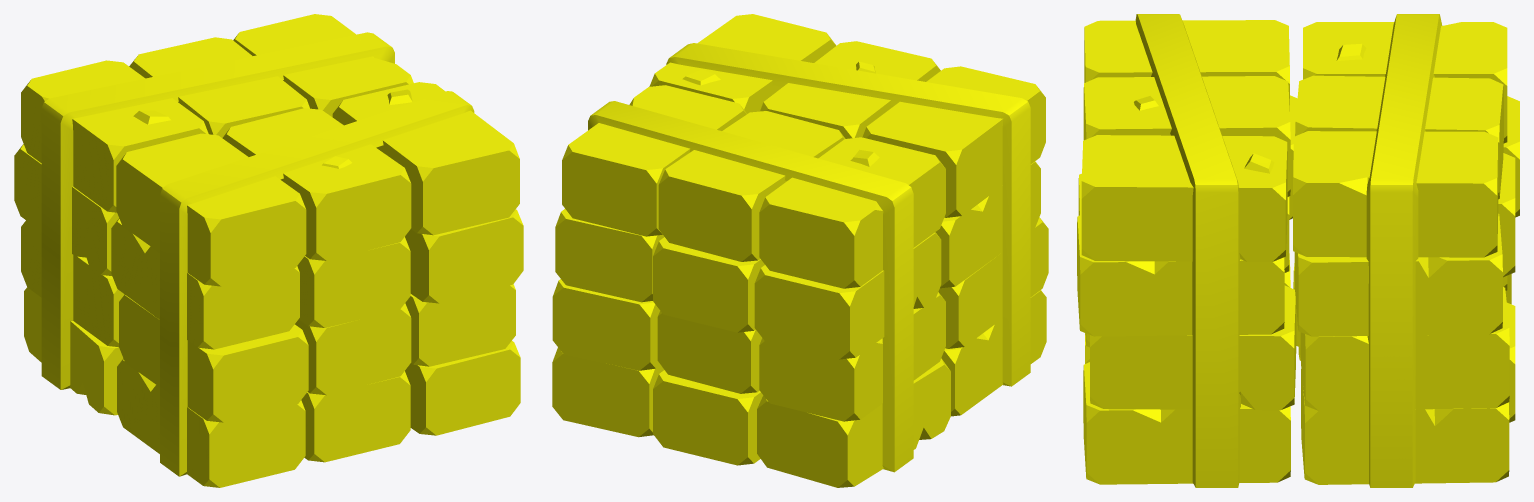
File: kaykit-stone-bricks-stack-large.glb
3 renders of one model, left to right at view 1: azimuth 30°, elevation 25°; view 2: azimuth 150°, elevation 25°; view 3: azimuth 270°, elevation 25°, orthographic. The views are drawn at different scales.
Visible parts, largest first — view 1: Stone_Bricks_Stack_Large; view 2: Stone_Bricks_Stack_Large; view 3: Stone_Bricks_Stack_Large.
Part boxes in pixels (box(x1,y1,x2,y2)): Stone_Bricks_Stack_Large: box(14, 14, 523, 487); Stone_Bricks_Stack_Large: box(552, 14, 1048, 487); Stone_Bricks_Stack_Large: box(1077, 14, 1519, 487).
Bounding box in the file's own units: 1.51 × 1.23 × 1.63.
